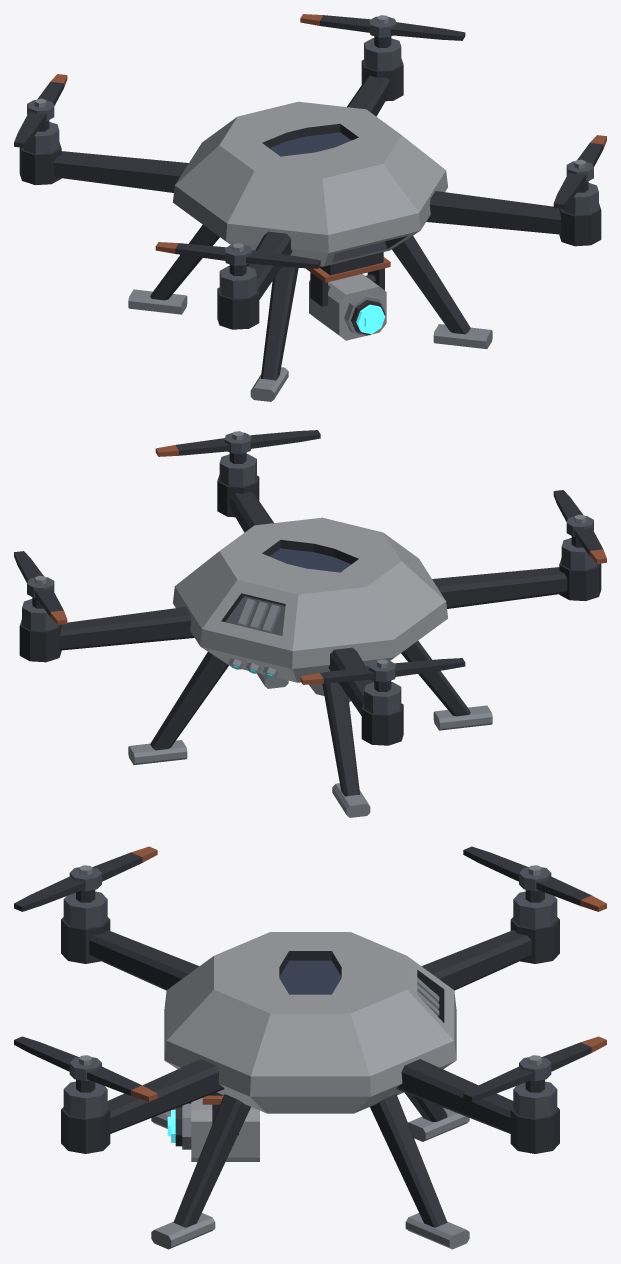
The model's file is survey-drone-7c71f9.glb.
The picture shows the model from 3 angles, top to bottom: view 1: azimuth 30°, elevation 25°; view 2: azimuth 150°, elevation 25°; view 3: azimuth 270°, elevation 25°; orthographic projection. The views are drawn at different scales.
Parts seen in each view (by area): view 1: survey-drone, camera-gimbal, rotor-br, rotor-fl, rotor-bl, rotor-fr; view 2: survey-drone, rotor-fr, rotor-bl, rotor-fl, rotor-br; view 3: survey-drone, camera-gimbal, rotor-fr, rotor-br, rotor-bl, rotor-fl.
Boxes of the visible parts, x1=… form: survey-drone: x1=19, y1=36, x2=601, y2=401; camera-gimbal: x1=309, y1=274, x2=386, y2=340; rotor-br: x1=300, y1=14, x2=465, y2=40; rotor-fl: x1=155, y1=242, x2=320, y2=268; rotor-bl: x1=14, y1=74, x2=67, y2=147; rotor-fr: x1=553, y1=135, x2=606, y2=208; survey-drone: x1=19, y1=452, x2=601, y2=817; rotor-fr: x1=155, y1=430, x2=320, y2=456; rotor-bl: x1=300, y1=658, x2=465, y2=684; rotor-fl: x1=553, y1=490, x2=606, y2=563; rotor-br: x1=14, y1=551, x2=67, y2=624; survey-drone: x1=61, y1=890, x2=559, y2=1249; camera-gimbal: x1=167, y1=1098, x2=259, y2=1161; rotor-fr: x1=14, y1=1036, x2=157, y2=1101; rotor-br: x1=463, y1=1036, x2=606, y2=1101; rotor-bl: x1=463, y1=846, x2=606, y2=911; rotor-fl: x1=14, y1=846, x2=157, y2=911.
Size of the model in its own units: 1.1 by 0.453 by 1.1.
